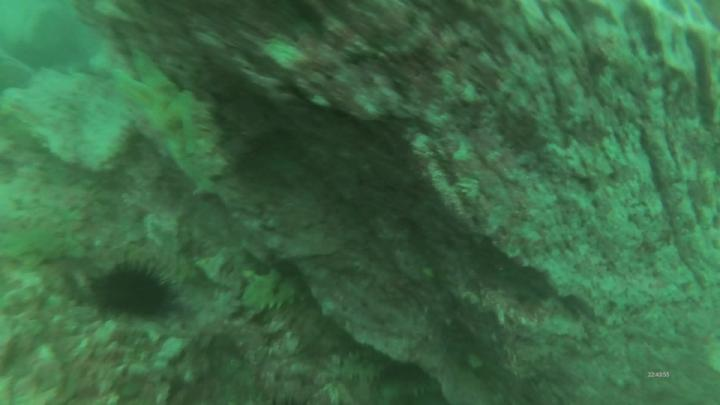echinus: (82, 258, 178, 327)
holothurian: (1, 226, 92, 274), (236, 269, 315, 318), (322, 342, 409, 384), (378, 373, 444, 404)
starfish: (112, 49, 220, 196)
